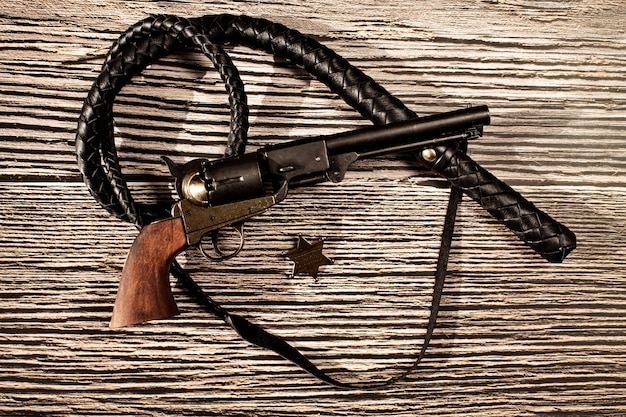gun: (108, 103, 491, 330)
